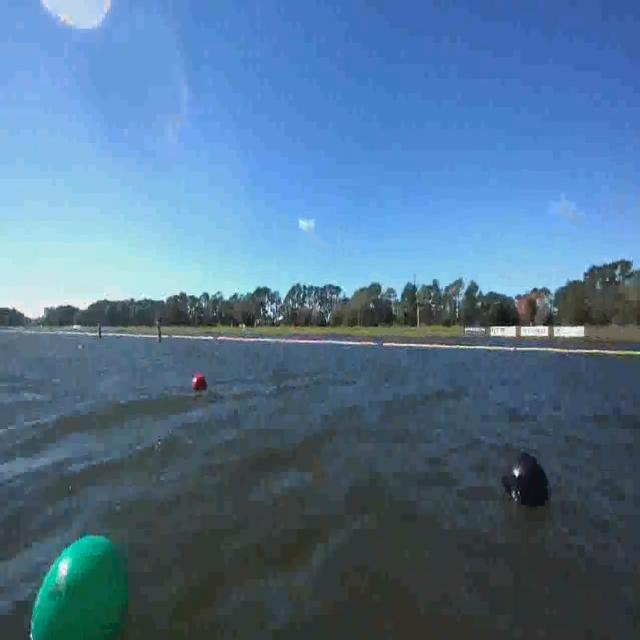black-buoy: (500, 444, 549, 508)
green-buoy: (12, 523, 147, 640)
red-buoy: (195, 375, 208, 391)
